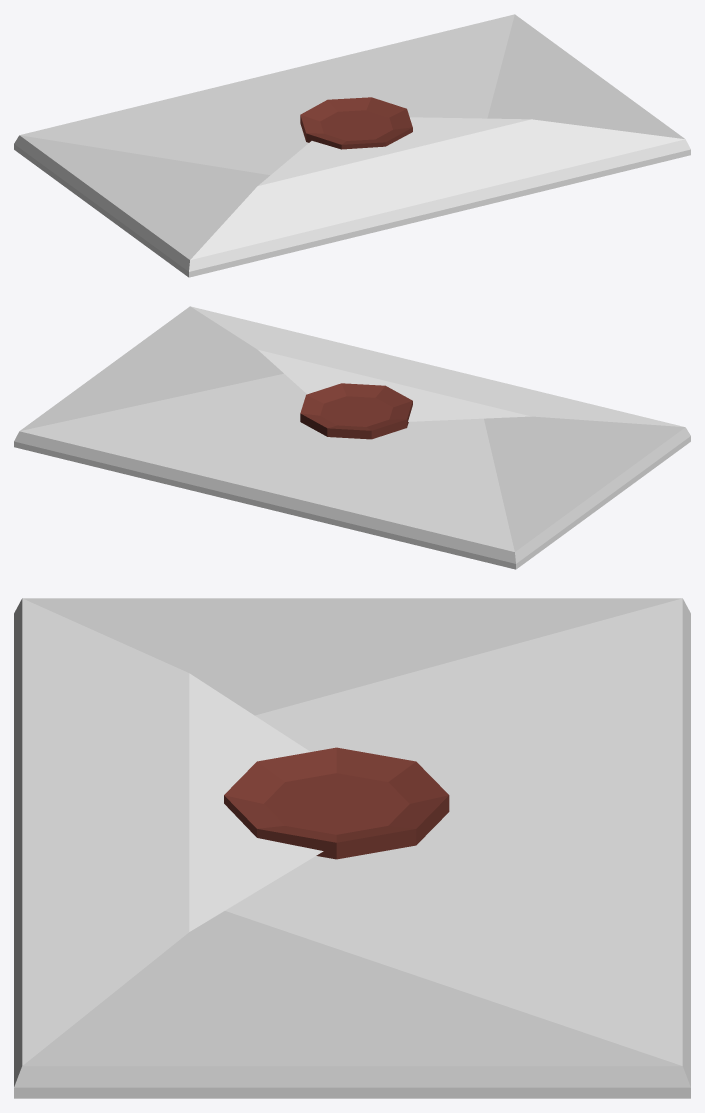
File: letter03.obj
3 renders of one model, top to bottom at view 1: azimuth 30°, elevation 25°; view 2: azimuth 150°, elevation 25°; view 3: azimuth 270°, elevation 25°, orthographic. The views are drawn at different scales.
Parts seen in each view (by area): view 1: Cylinder; view 2: Cylinder; view 3: Cylinder.
Part boxes in pixels (x1,y1,x2,y2): Cylinder: (14,14,690,277); Cylinder: (14,306,690,569); Cylinder: (14,598,690,1098).
Bounding box in the file's own units: 0.1264 × 0.00924 × 0.0763.
